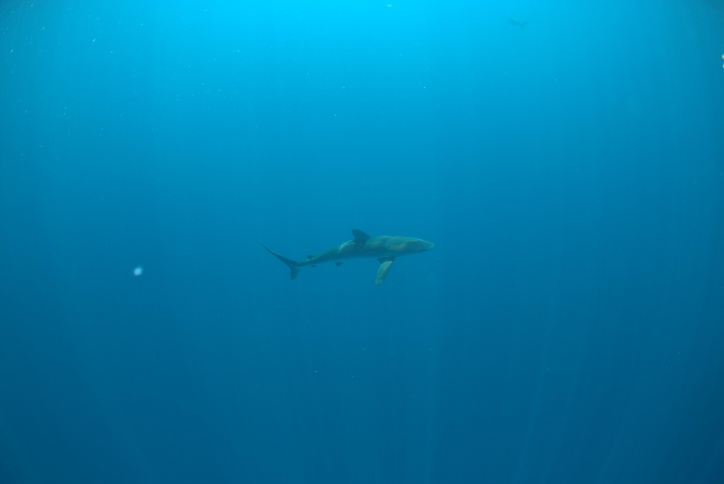Sedoso: (239, 220, 449, 285)
